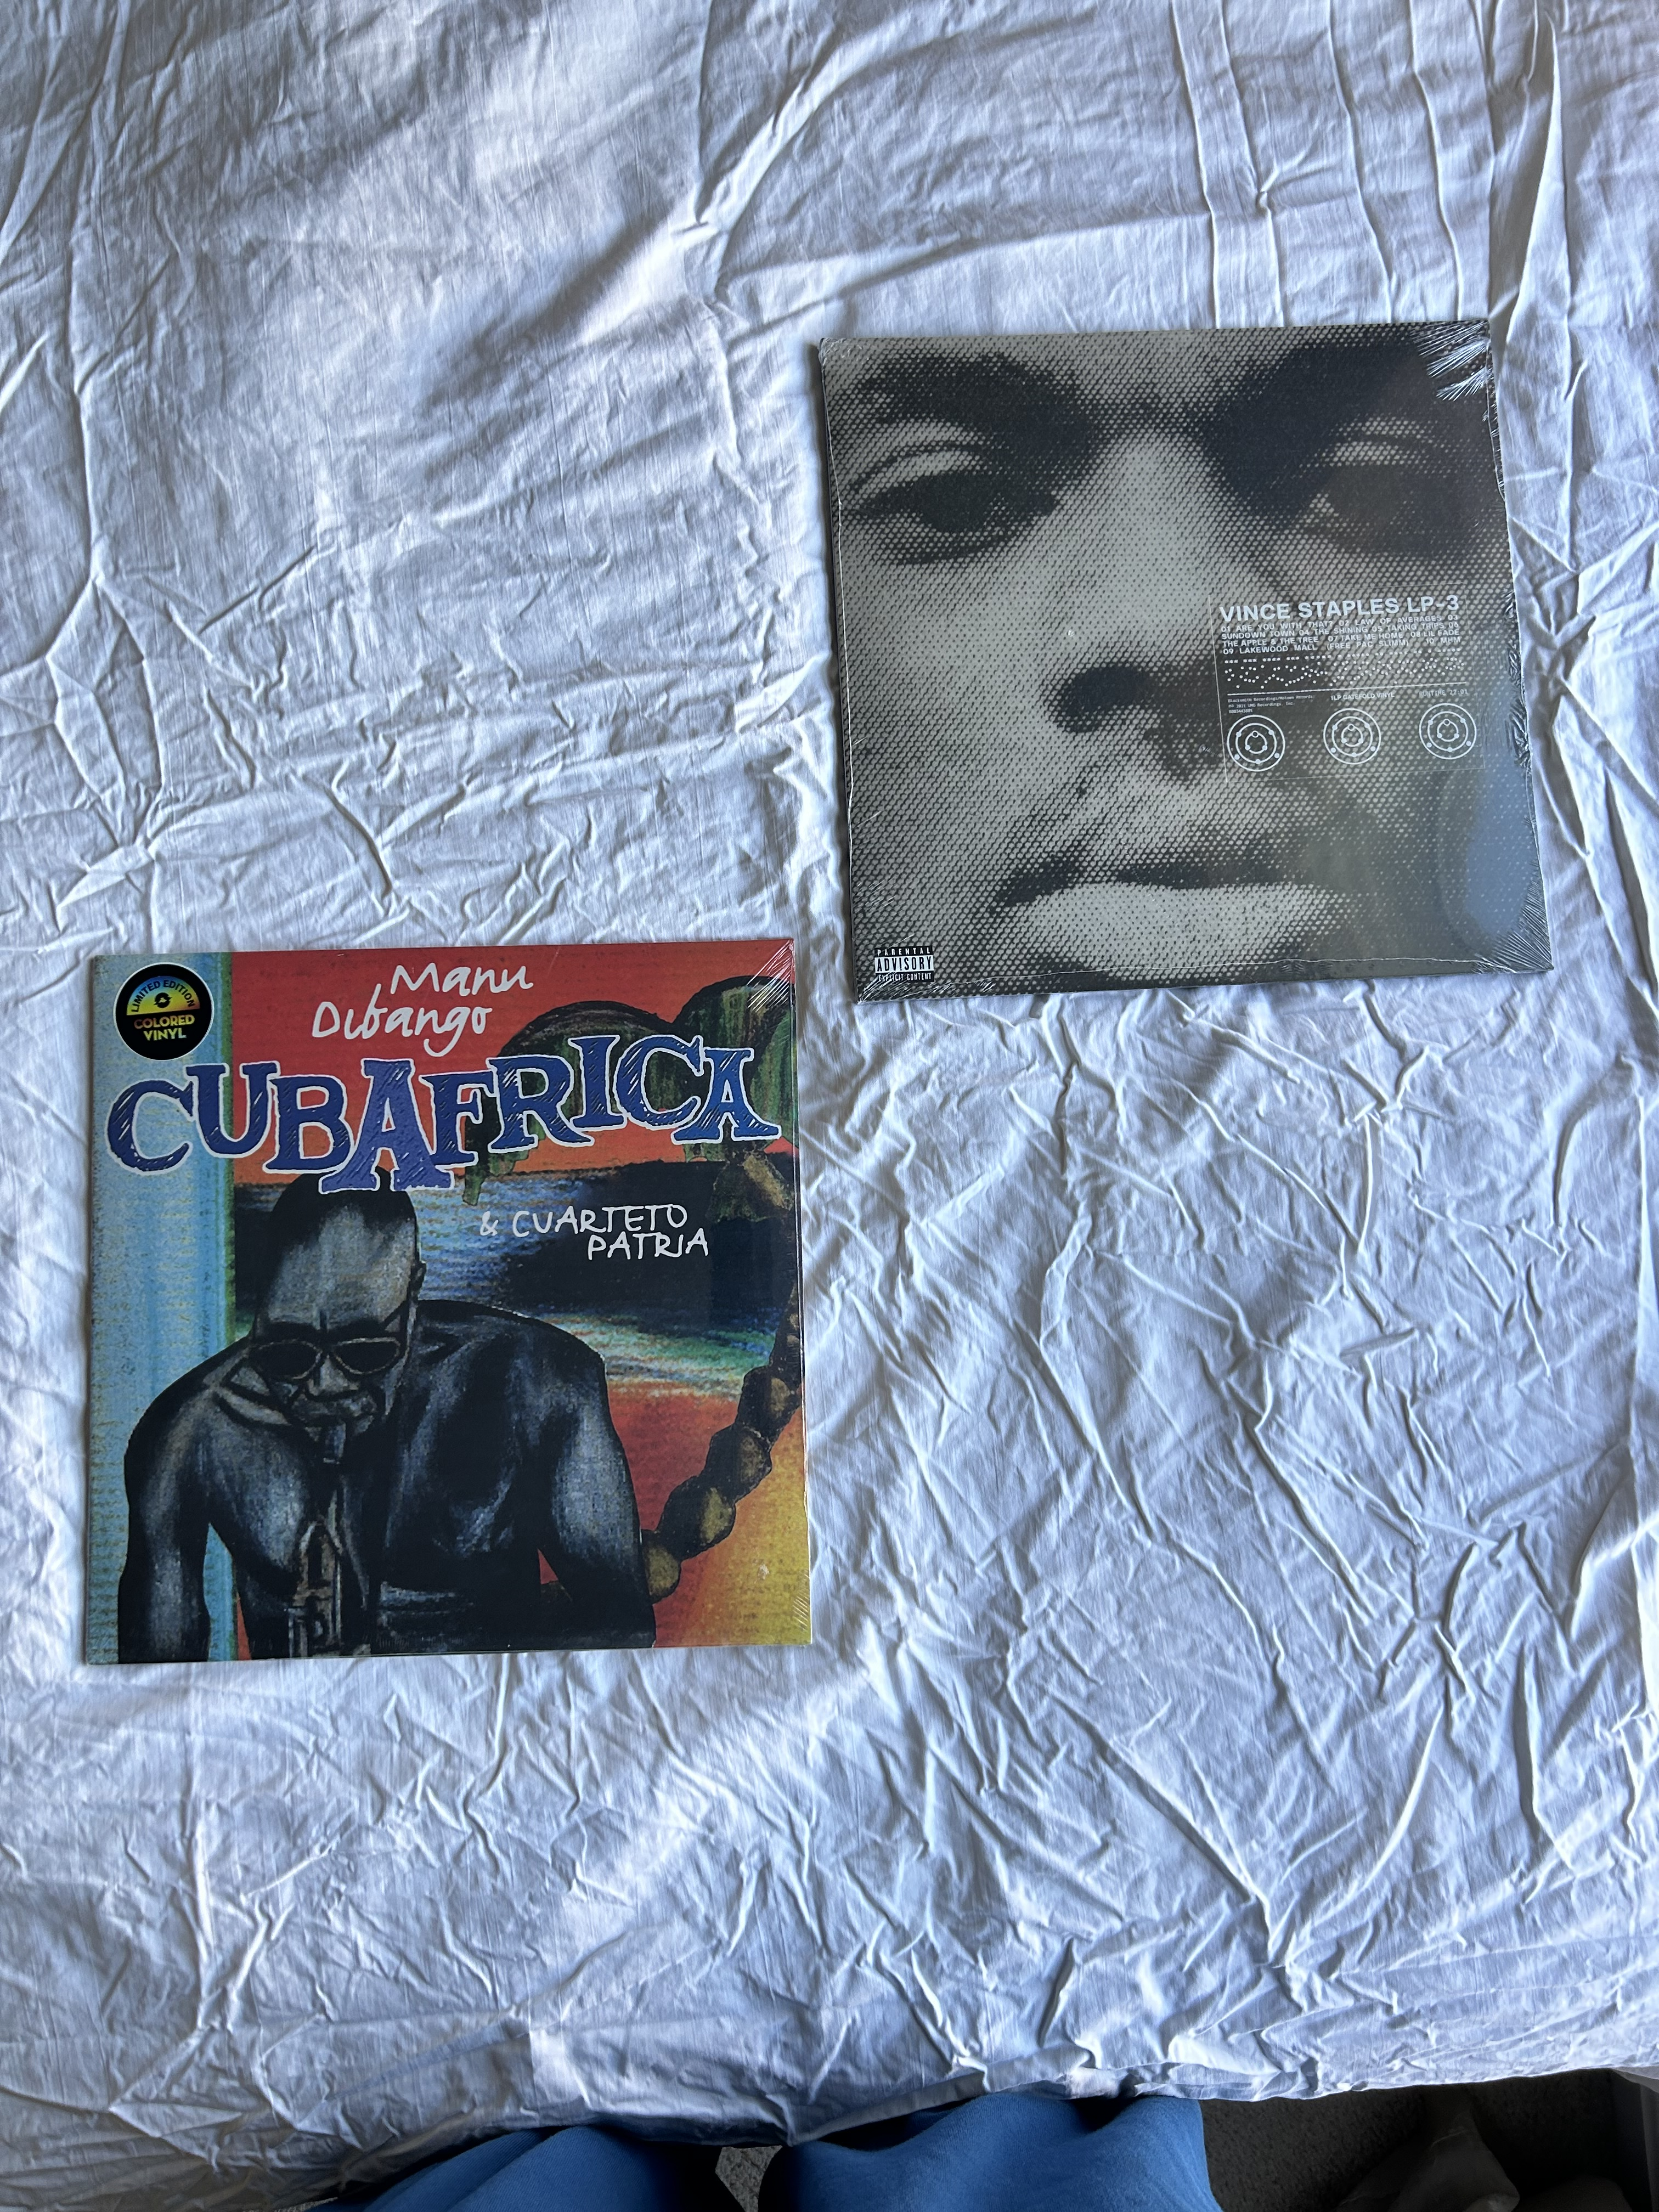manu dibango_cubafrica: (82, 932, 816, 1670)
vince staples_vince staples: (809, 341, 1504, 1014)
